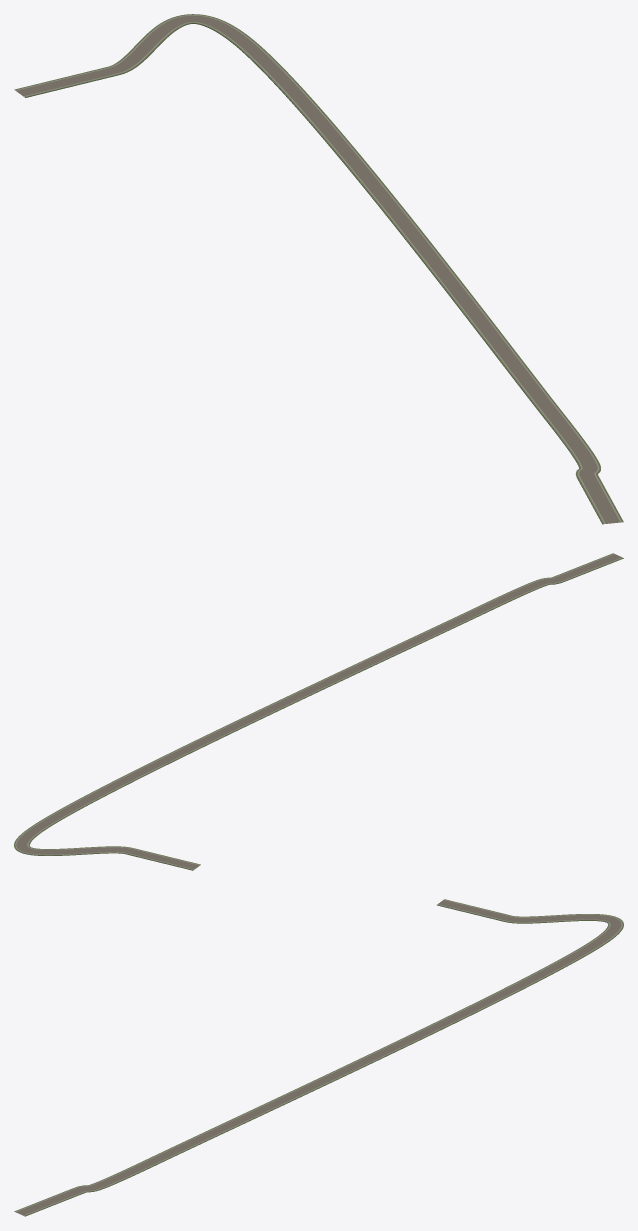
The model's file is road_roam_to_autumn_glen.glb.
3 renders of one model, top to bottom at view 1: azimuth 30°, elevation 25°; view 2: azimuth 150°, elevation 25°; view 3: azimuth 330°, elevation 25°, orthographic. The views are drawn at different scales.
Parts seen in each view (by area): view 1: road; view 2: road; view 3: road.
Part boxes in pixels (left/top/right/bottom): road: left=14, top=14, right=623, bottom=524; road: left=14, top=553, right=623, bottom=870; road: left=14, top=899, right=623, bottom=1216.
Bounding box in the file's own units: 148 × 0.32 × 690.
